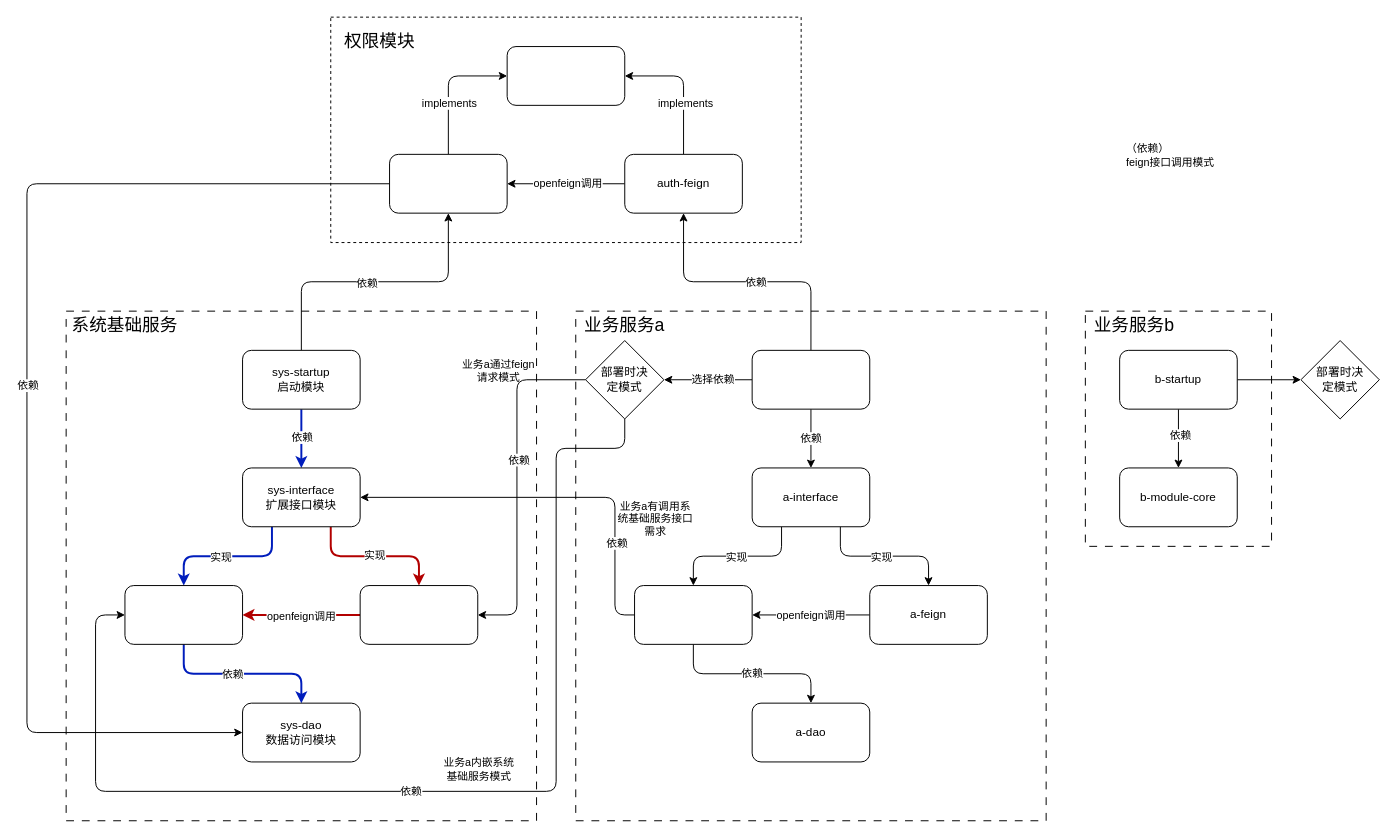
This 1397x838 diagram has some shape labels left out. Here are the shapes that lost their labels. From the top down, the centre of each, then its label:
At pixel 565 75: "auth-interface".
At pixel 448 183: "auth-core".
At pixel 810 379: "a-startup".
At pixel 183 614: "sys -core 基础信息 （包括权限信息）".
At pixel 418 614: "sys -feign 基础信息接口 （包括权限信息接口）".
At pixel 693 614: "a-core".
